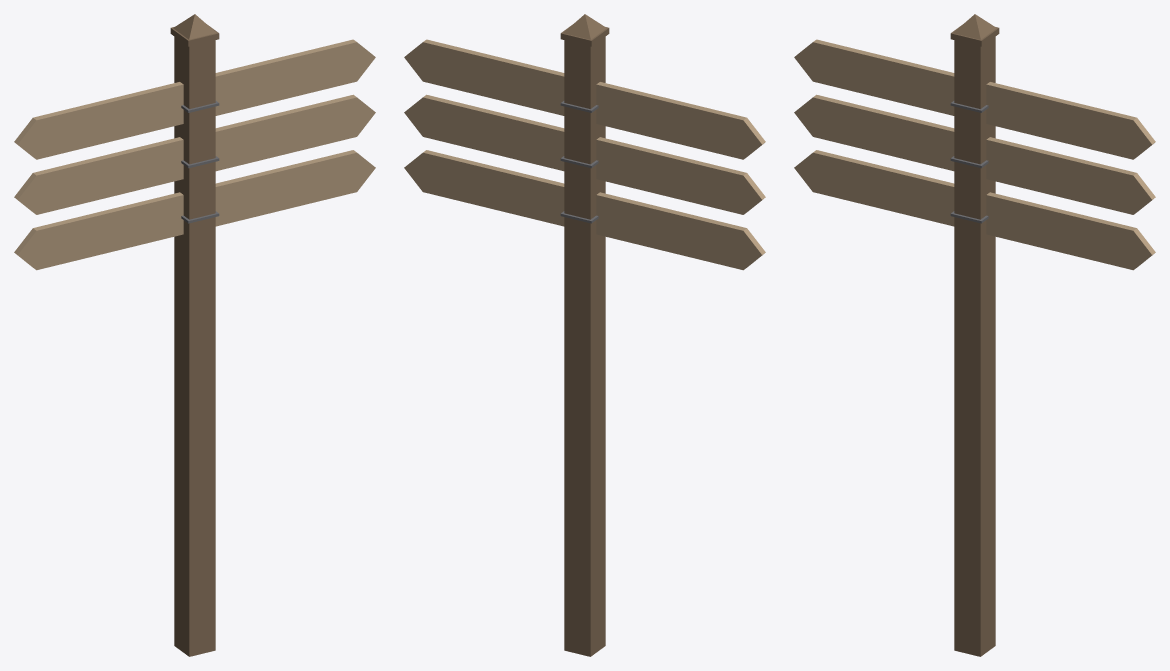
Rendered from fingerpost_3_7fed87f0.glb.
3 renders of one model, left to right at view 1: azimuth 30°, elevation 25°; view 2: azimuth 150°, elevation 25°; view 3: azimuth 330°, elevation 25°, orthographic.
Visible parts, largest first — view 1: post, arm2L, arm1L, arm3L, arm2, arm3, arm1, collars; view 2: post, arm2L, arm1L, arm3L, arm2, arm3, arm1, collars; view 3: post, arm2, arm1, arm3, arm2L, arm3L, arm1L, collars.
Part boxes in pixels (box(x1,y1,x2,y2)): post: box(170, 14, 219, 656); arm2L: box(14, 137, 183, 214); arm1L: box(14, 82, 183, 159); arm3L: box(14, 192, 183, 270); arm2: box(215, 94, 375, 171); arm3: box(215, 150, 375, 226); arm1: box(215, 39, 375, 115); collars: box(181, 101, 219, 223); post: box(560, 14, 609, 656); arm2L: box(596, 137, 765, 214); arm1L: box(596, 82, 765, 159); arm3L: box(596, 192, 765, 270); arm2: box(404, 94, 564, 171); arm3: box(404, 150, 564, 226); arm1: box(404, 39, 564, 115); collars: box(560, 101, 598, 223); post: box(950, 14, 999, 656); arm2: box(986, 137, 1155, 214); arm1: box(986, 82, 1155, 159); arm3: box(986, 192, 1155, 270); arm2L: box(794, 94, 954, 171); arm3L: box(794, 150, 954, 226); arm1L: box(794, 39, 954, 115); collars: box(950, 101, 988, 223).
Size of the model in its own units: 1.9 by 3.21 by 0.164.
